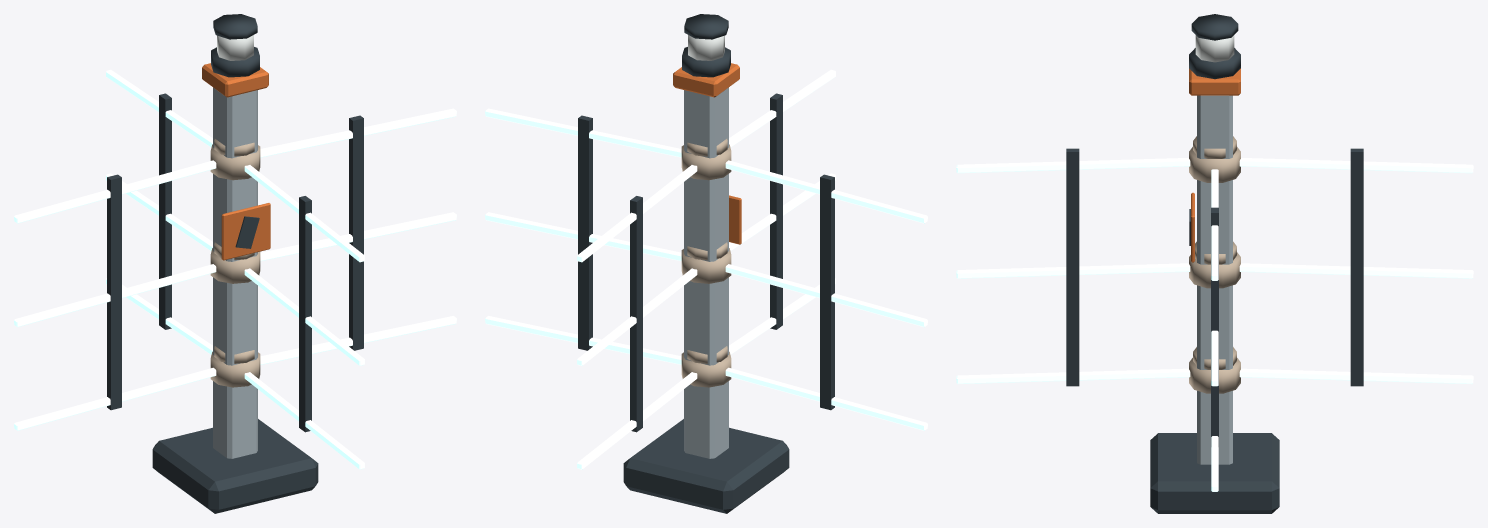
Rendered from fence.glb.
3 views of the same model, side by side, from view 1: azimuth 30°, elevation 25°; view 2: azimuth 150°, elevation 25°; view 3: azimuth 270°, elevation 25° (orthographic).
Visible parts, largest first — view 1: fence_dark, fence_metal, Span3, Span1, Span0, Span2, fence_ceramic, fence_orange, Lamp; view 2: fence_metal, fence_dark, Span3, Span1, Span2, Span0, fence_ceramic, fence_orange, Lamp; view 3: fence_dark, Span0, Span2, fence_metal, fence_ceramic, Span1, fence_orange, Lamp.
Boxes of the visible parts, x1,y1,x2,y2 form: fence_dark: [152, 14, 318, 513]; fence_metal: [213, 87, 257, 458]; Span3: [14, 160, 216, 430]; Span1: [260, 108, 456, 364]; Span0: [244, 165, 364, 469]; Span2: [106, 69, 212, 354]; fence_ceramic: [210, 139, 260, 387]; fence_orange: [202, 63, 270, 260]; Lamp: [217, 35, 253, 60]; fence_metal: [684, 87, 728, 458]; fence_dark: [623, 14, 789, 513]; Span3: [725, 160, 927, 430]; Span1: [485, 108, 681, 364]; Span2: [577, 165, 697, 469]; Span0: [729, 69, 835, 354]; fence_ceramic: [681, 139, 731, 387]; fence_orange: [673, 63, 741, 244]; Lamp: [688, 35, 724, 60]; fence_dark: [1150, 14, 1279, 513]; Span0: [956, 148, 1190, 386]; Span2: [1239, 148, 1473, 386]; fence_metal: [1197, 95, 1232, 464]; fence_ceramic: [1189, 136, 1240, 393]; Span1: [1211, 169, 1218, 491]; fence_orange: [1189, 68, 1240, 262]; Lamp: [1195, 35, 1234, 62].
Size of the model in its own units: 2 by 1.99 by 2.
